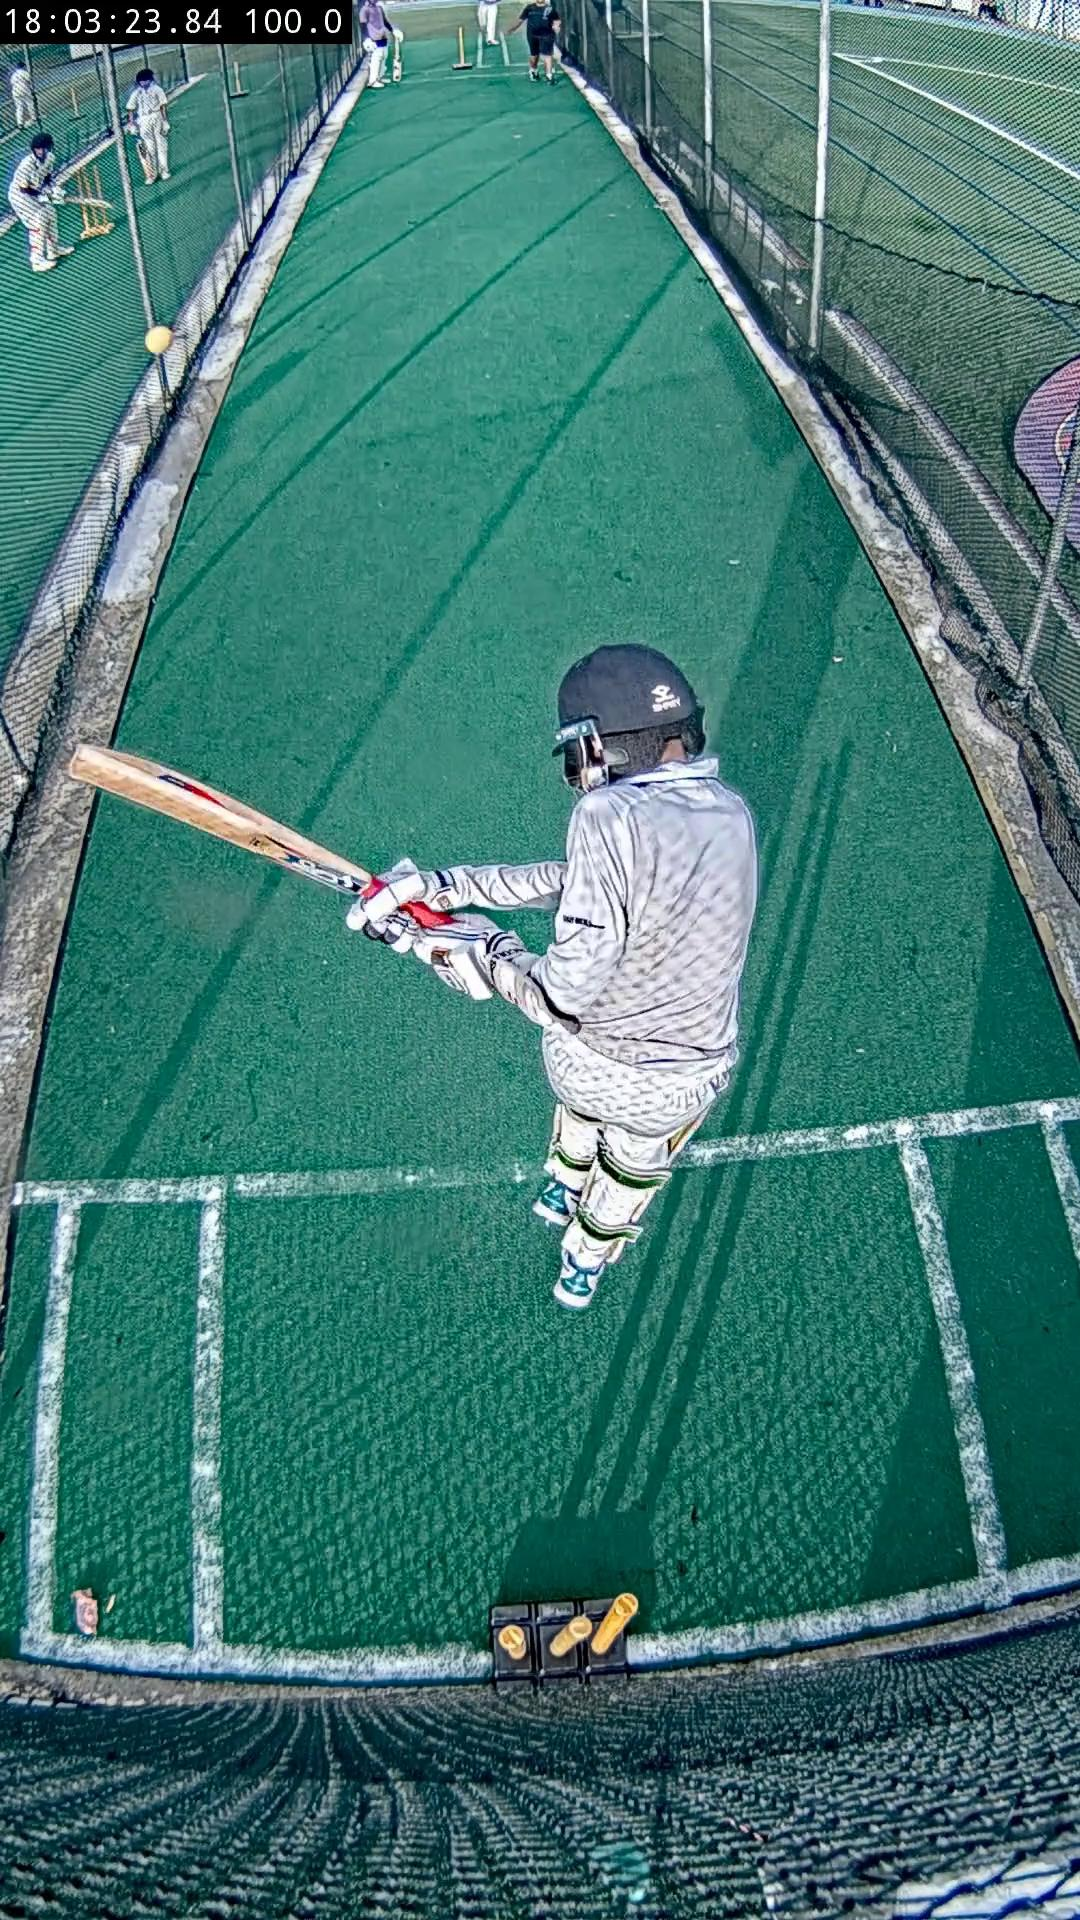ball: (142, 326, 173, 356)
bat: (83, 738, 372, 897)
gloves: (345, 866, 498, 1001)
helmet: (555, 641, 702, 787)
pads: (492, 1594, 637, 1684)
